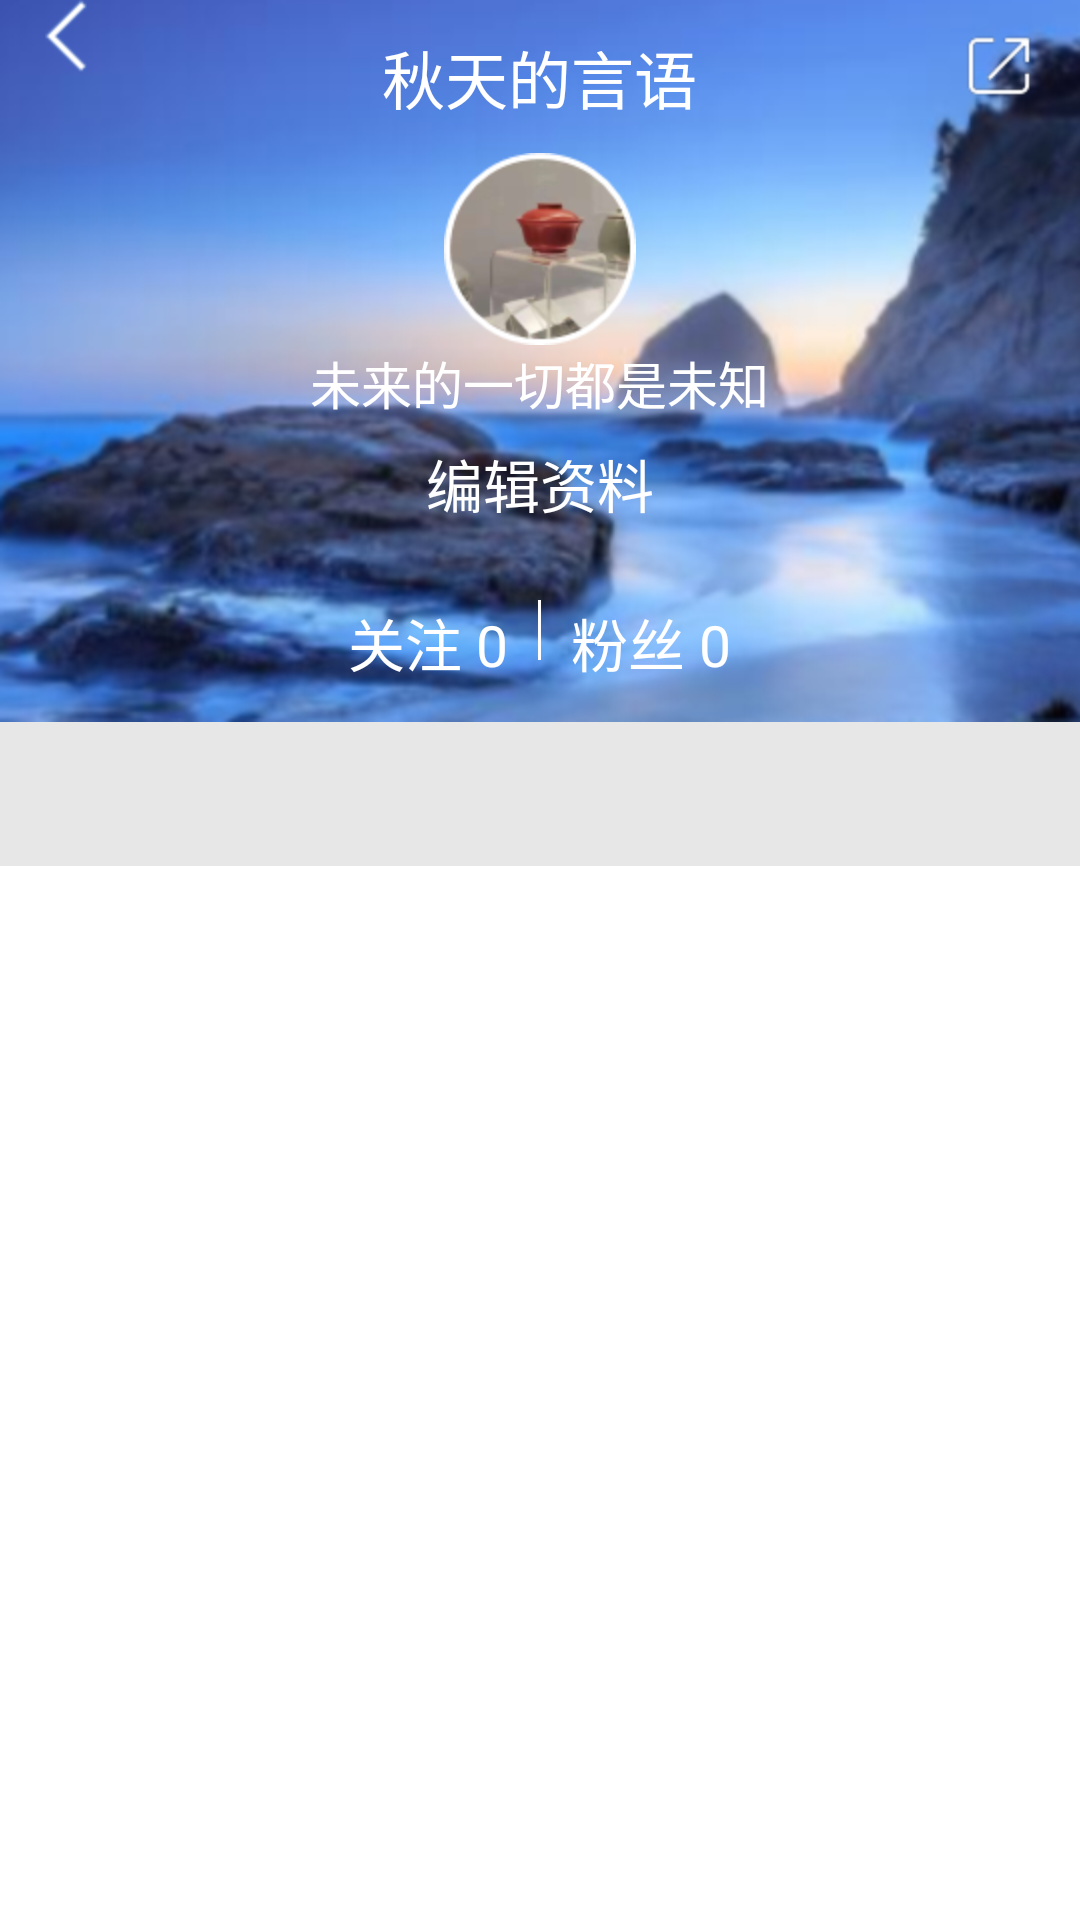

Icon click points for this 1080 x 1920 phone screenshot, format point (x, y):
arrow left back: point (66, 36)
shar: point (999, 66)
